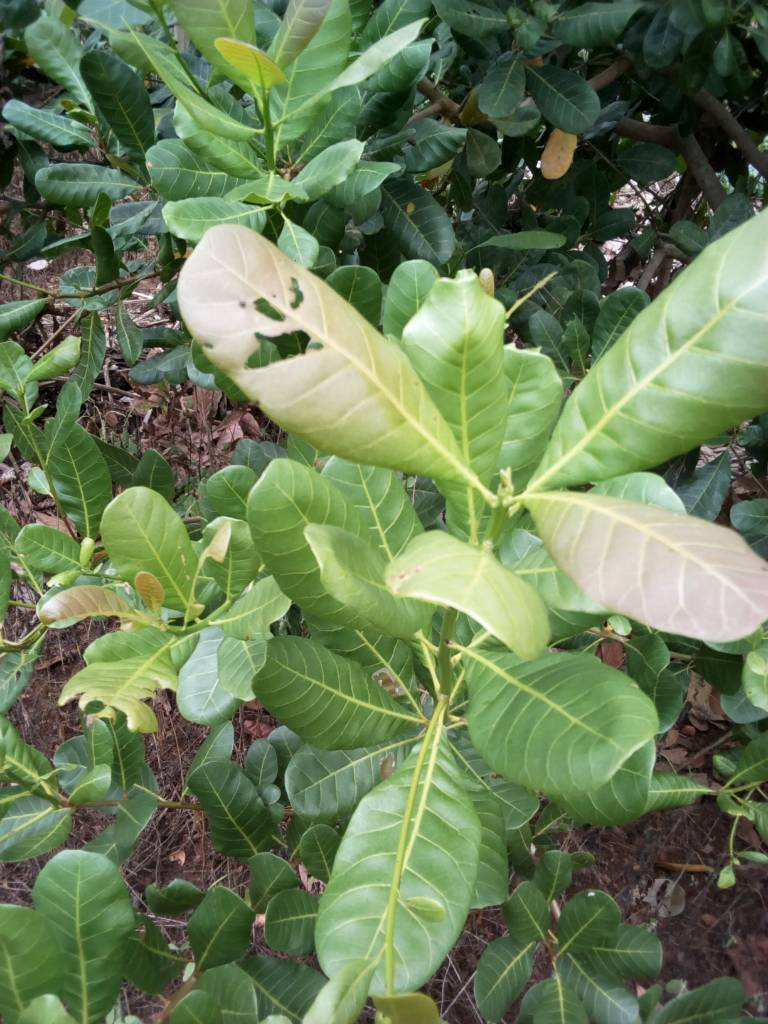Anoplonemis curvipes: (168, 217, 496, 516)
